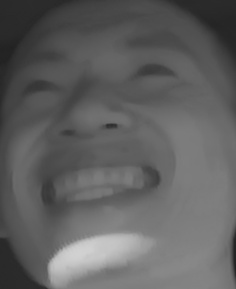eye: (128, 55, 177, 90), (19, 75, 62, 103)
mouth: (36, 146, 166, 219)
